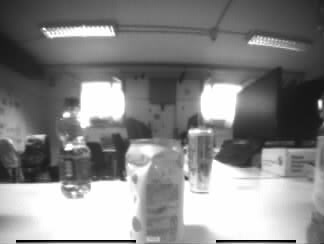Bottle: (56, 97, 92, 196)
Tin can: (125, 138, 185, 244), (189, 128, 214, 193)
